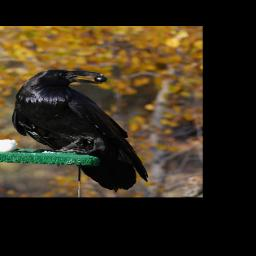Crow: (11, 69, 148, 192)
